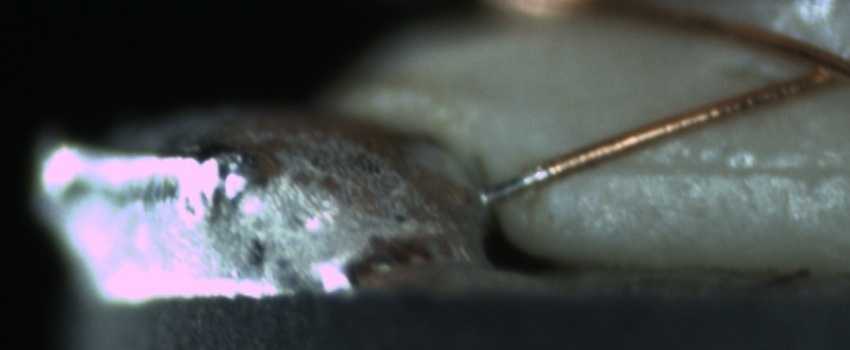CL: (792, 43, 850, 97)
DL: (579, 136, 840, 200)
TS: (479, 165, 544, 203)
